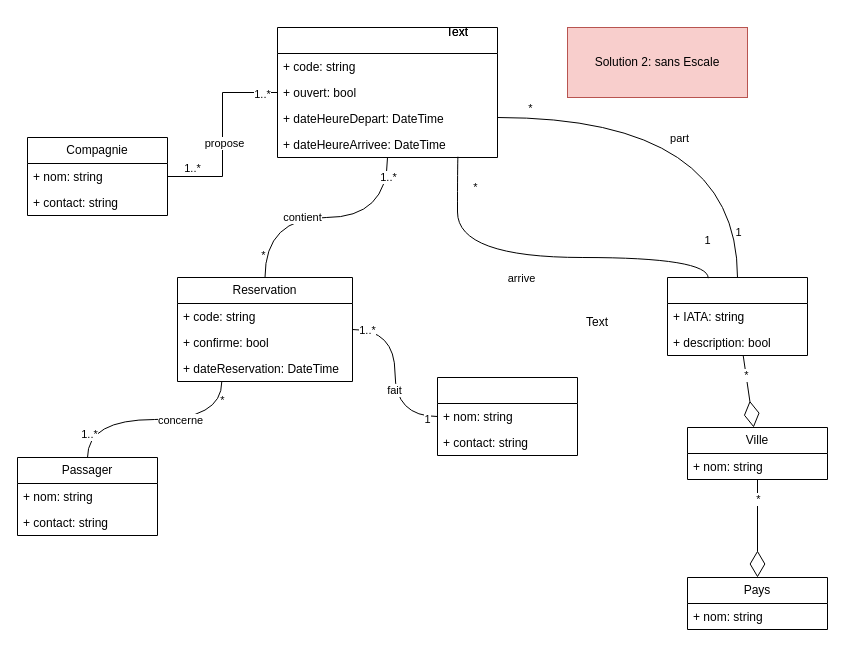
The diagram is 845 pixels wide and 649 high, and some of its shapes have lost their labels. Each missing label, with the box of its shape:
Aeroport: (666, 276, 808, 356)
Client: (436, 376, 578, 456)
Vol: (276, 26, 498, 158)
